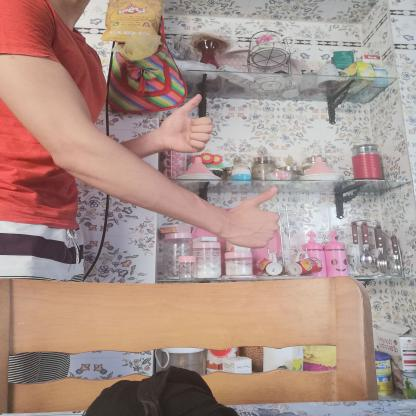ALIF: (145, 84, 222, 161), (220, 178, 294, 258)
